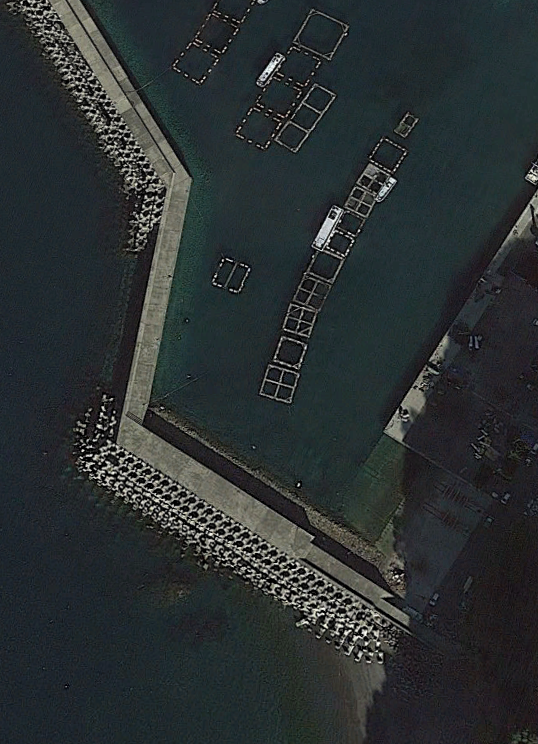ship: (308, 197, 343, 254), (251, 42, 288, 84), (370, 177, 404, 202)
square: (290, 3, 353, 63), (234, 102, 283, 151), (170, 39, 222, 85), (271, 41, 321, 88), (194, 5, 240, 55), (253, 72, 300, 119), (207, 250, 250, 295), (264, 334, 311, 372), (370, 132, 410, 175), (305, 245, 345, 287), (282, 302, 323, 342), (294, 272, 333, 310), (321, 228, 355, 259), (336, 206, 367, 236)
